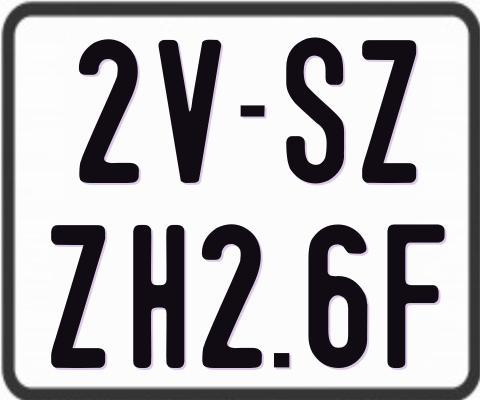2: (200, 221, 265, 365), (79, 38, 140, 183)
6: (305, 222, 368, 369)
F: (387, 223, 448, 371)
H: (132, 223, 184, 366)
S: (285, 38, 346, 185)
V: (157, 37, 221, 183)
Z: (49, 224, 107, 368), (362, 38, 416, 187)
